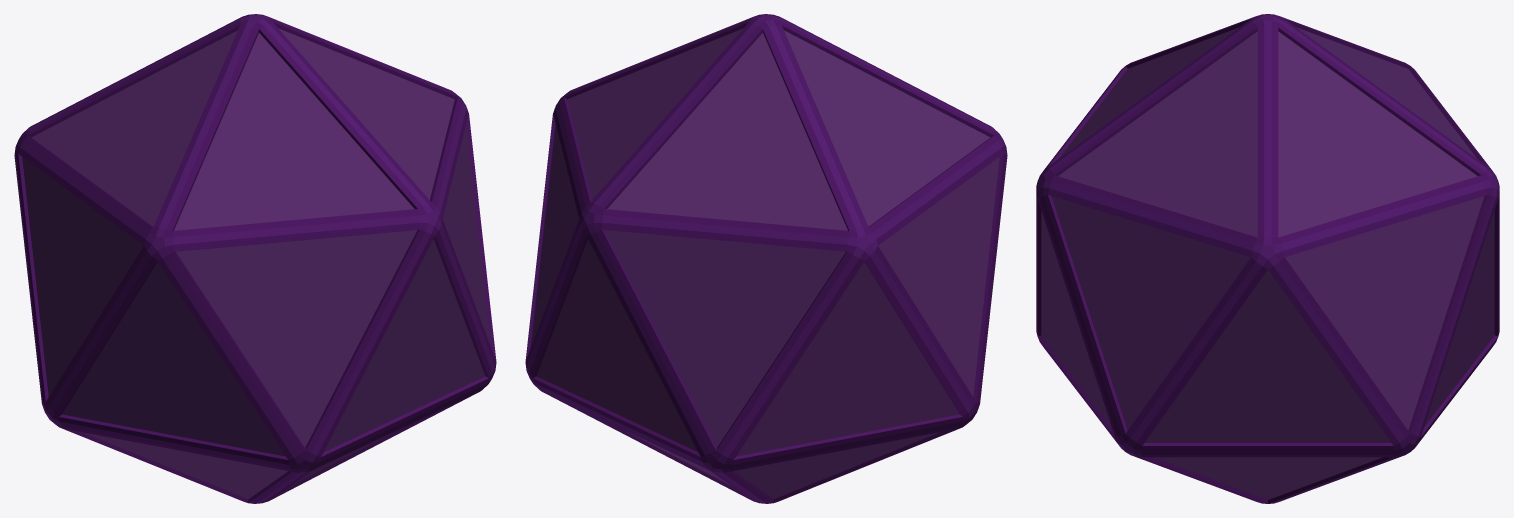
3 views of the same model, side by side, from view 1: azimuth 30°, elevation 25°; view 2: azimuth 150°, elevation 25°; view 3: azimuth 270°, elevation 25° (orthographic).
Visible parts, largest first — view 1: Icosphere; view 2: Icosphere; view 3: Icosphere.
Boxes of the visible parts, <box> form: Icosphere: <box>14,14,496,503</box>; Icosphere: <box>525,14,1007,503</box>; Icosphere: <box>1036,14,1499,503</box>.
Size of the model in its own units: 1.76 by 1.93 by 1.68.
